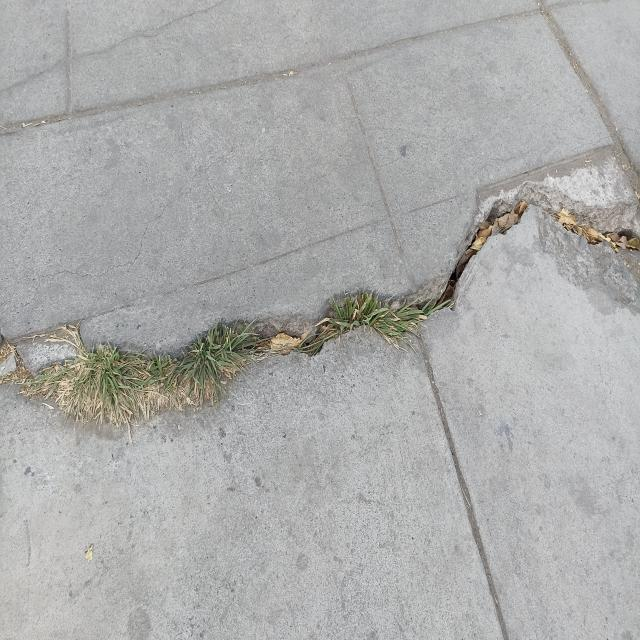hole: (0, 159, 640, 378)
